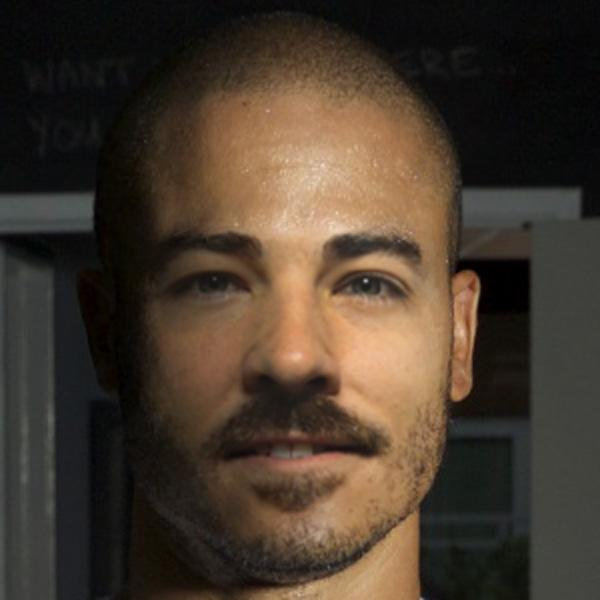Eyes: (324, 262, 414, 316), (163, 262, 256, 312)
